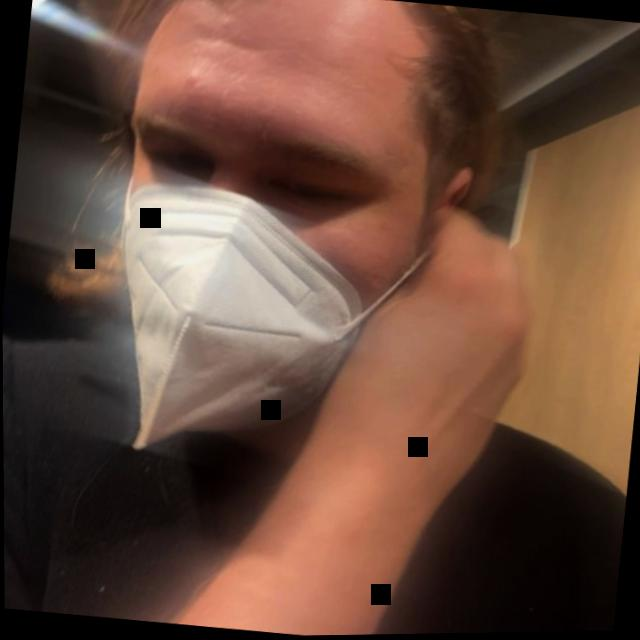Mask: (49, 0, 483, 467)
